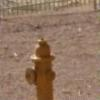Hydrant: (20, 32, 66, 100)
